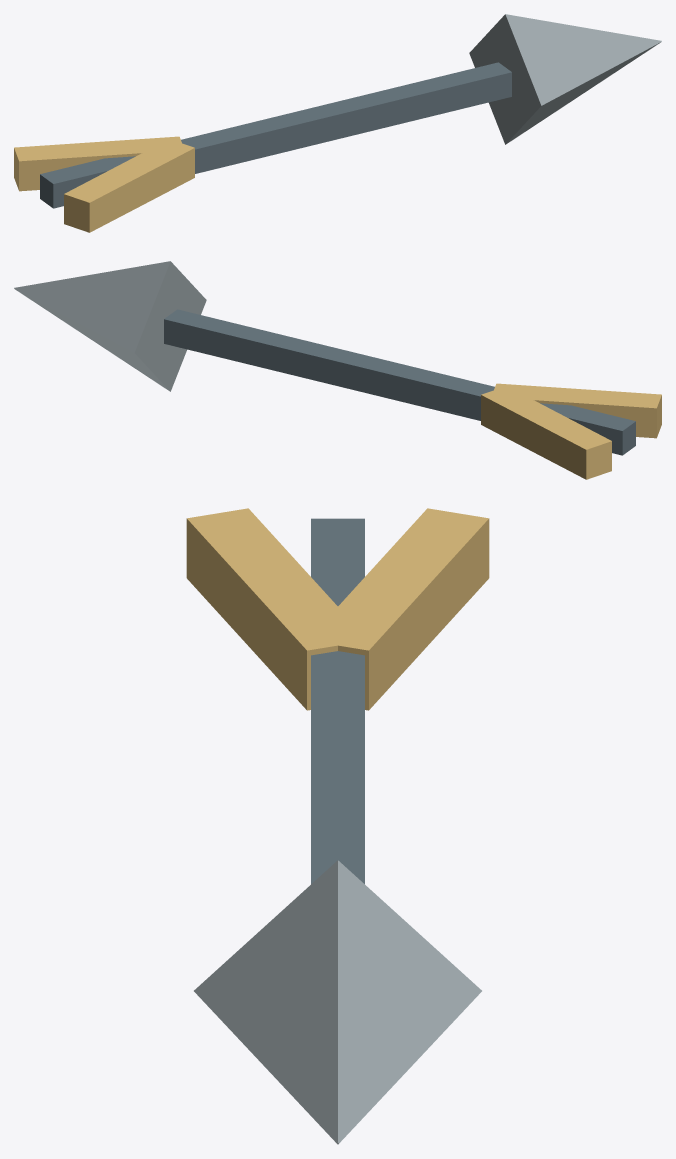
The model's file is IronArrowProjectile.fbx.
3 views of the same model, one above another, from view 1: azimuth 30°, elevation 25°; view 2: azimuth 150°, elevation 25°; view 3: azimuth 270°, elevation 25° (orthographic). The views are drawn at different scales.
Parts seen in each view (by area): view 1: IronArrowProjectile.001; view 2: IronArrowProjectile.001; view 3: IronArrowProjectile.001.
Boxes of the visible parts, x1,y1,x2,y2 form: IronArrowProjectile.001: (14,14,661,232); IronArrowProjectile.001: (14,261,661,479); IronArrowProjectile.001: (186,508,489,1144).
Size of the model in its own units: 119 by 24 by 25.13.
